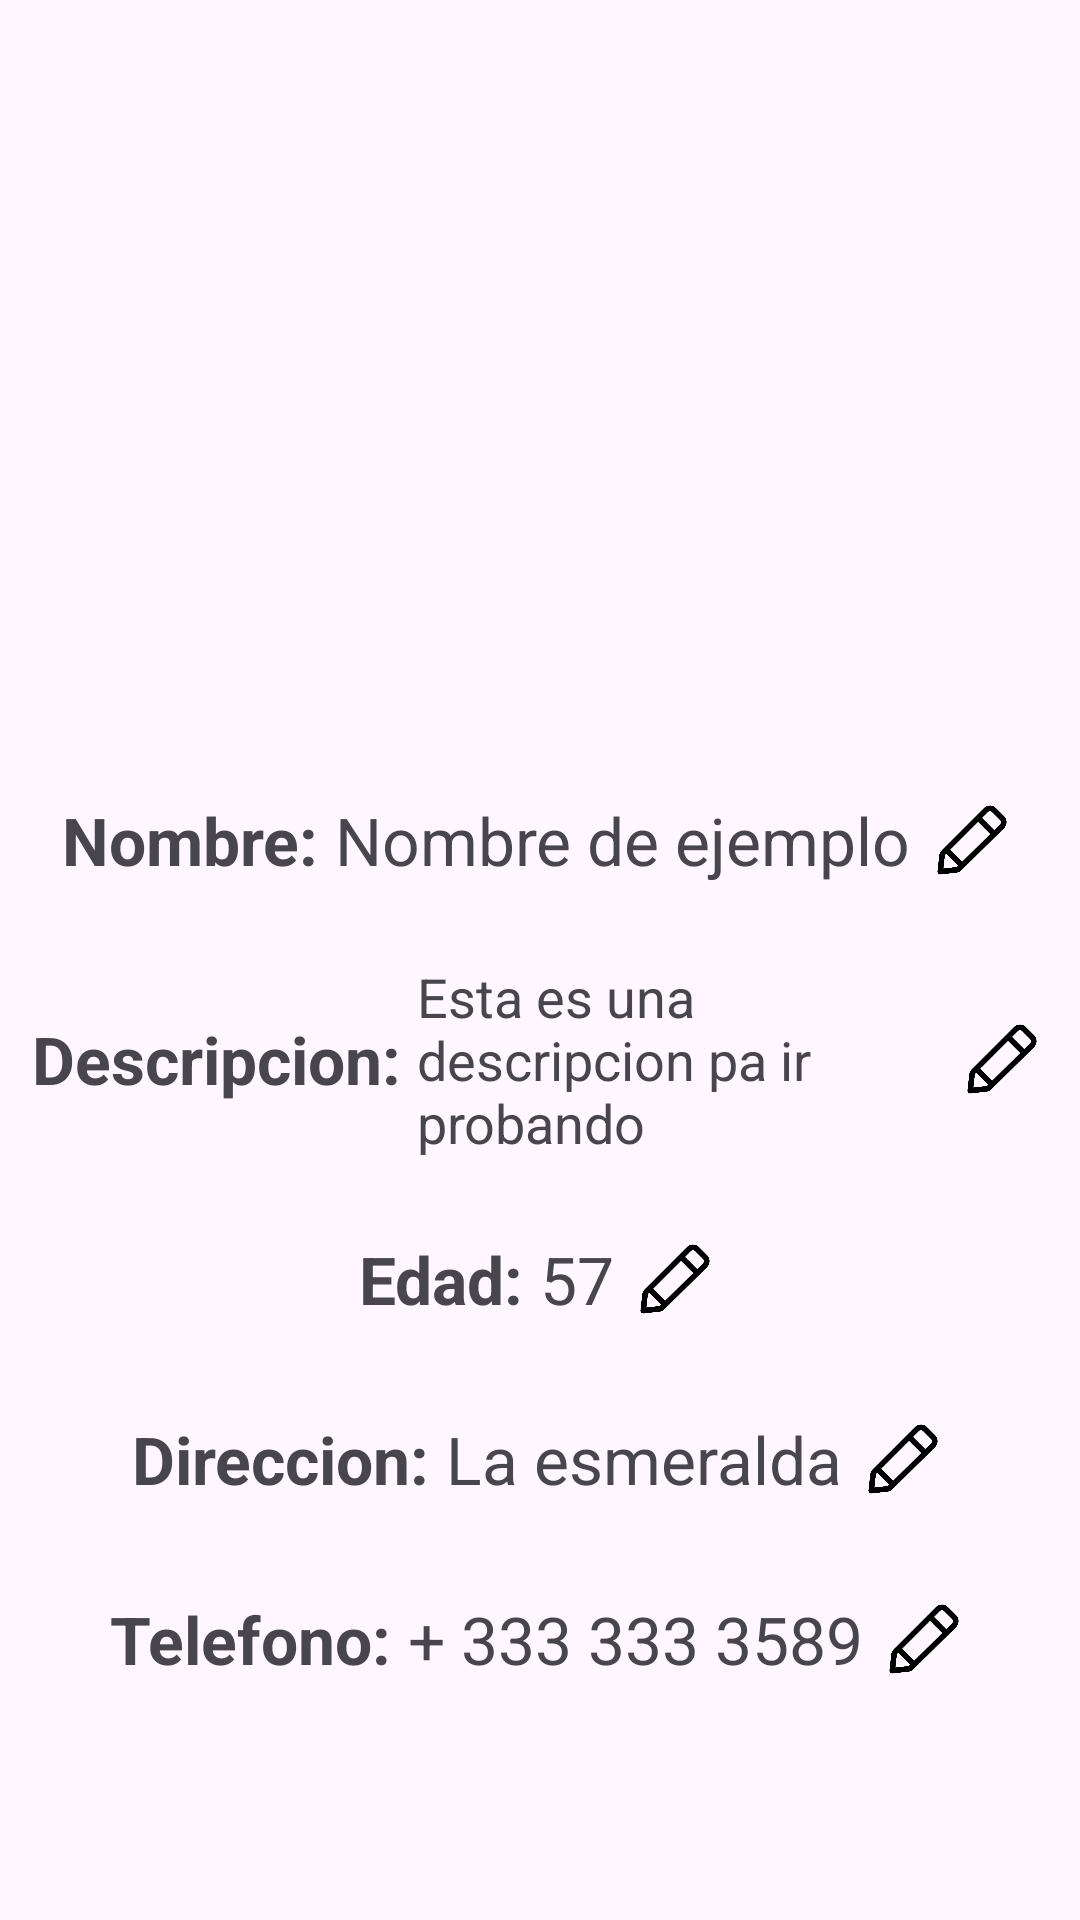

Icon bounding boxes for this 1080x1920 phone screenshot, format {"x1": x1, "y1": y1, "x2": x2, "y2": y2}:
edit: {"x1": 937, "y1": 805, "x2": 1007, "y2": 875}, {"x1": 967, "y1": 1024, "x2": 1037, "y2": 1094}, {"x1": 640, "y1": 1244, "x2": 710, "y2": 1314}, {"x1": 868, "y1": 1424, "x2": 938, "y2": 1494}, {"x1": 889, "y1": 1604, "x2": 959, "y2": 1674}
